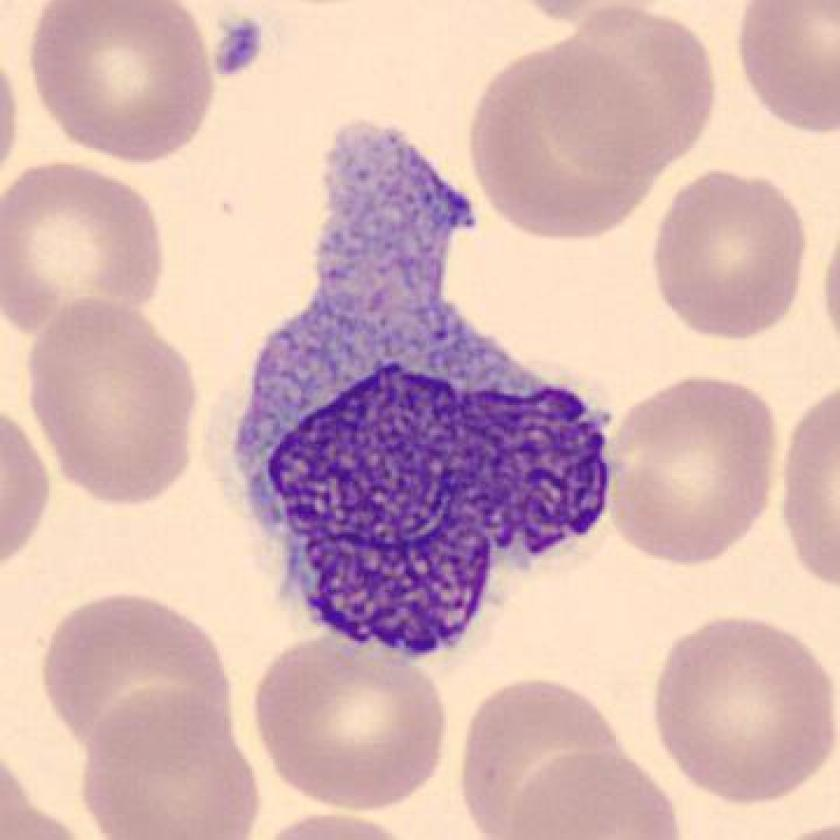monocyte: (188, 103, 640, 674)
